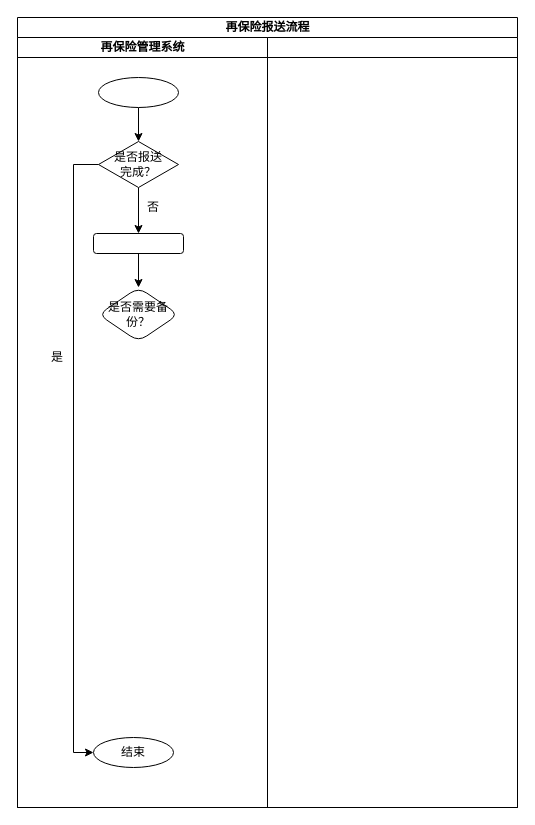
Image size: 535x825. Some labels were removed from this diagram. Here are the shapes that lost their labels. From the top down, the centre of each, then its label:
(x=138, y=92): 开始
(x=138, y=243): 生成数据
(x=392, y=422): 中保信报送平台
